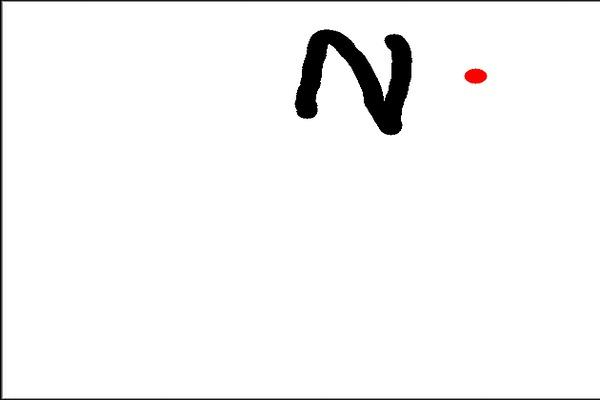N: (287, 20, 419, 141)
